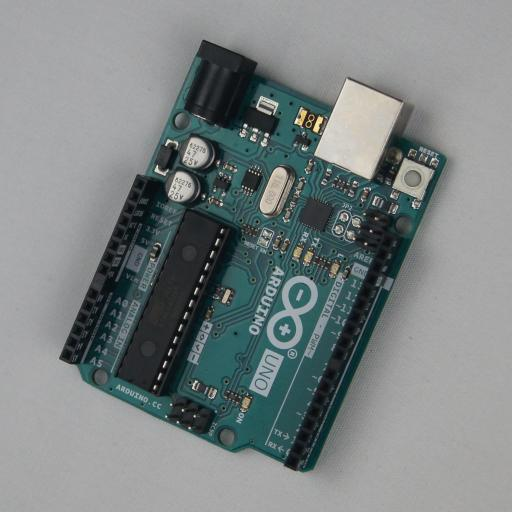Arduino Uno -Green-: (59, 40, 447, 472)
